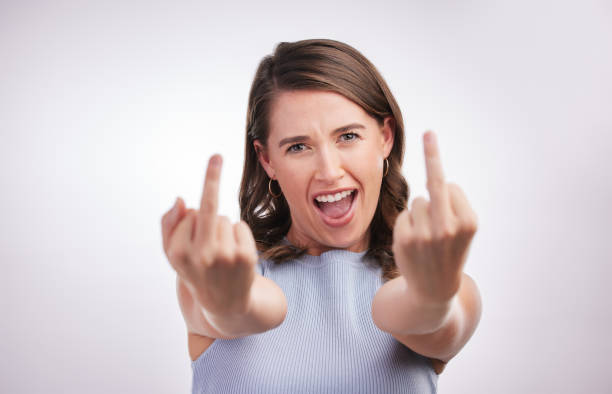insulting_gesture: (157, 151, 260, 320), (394, 127, 479, 287)
